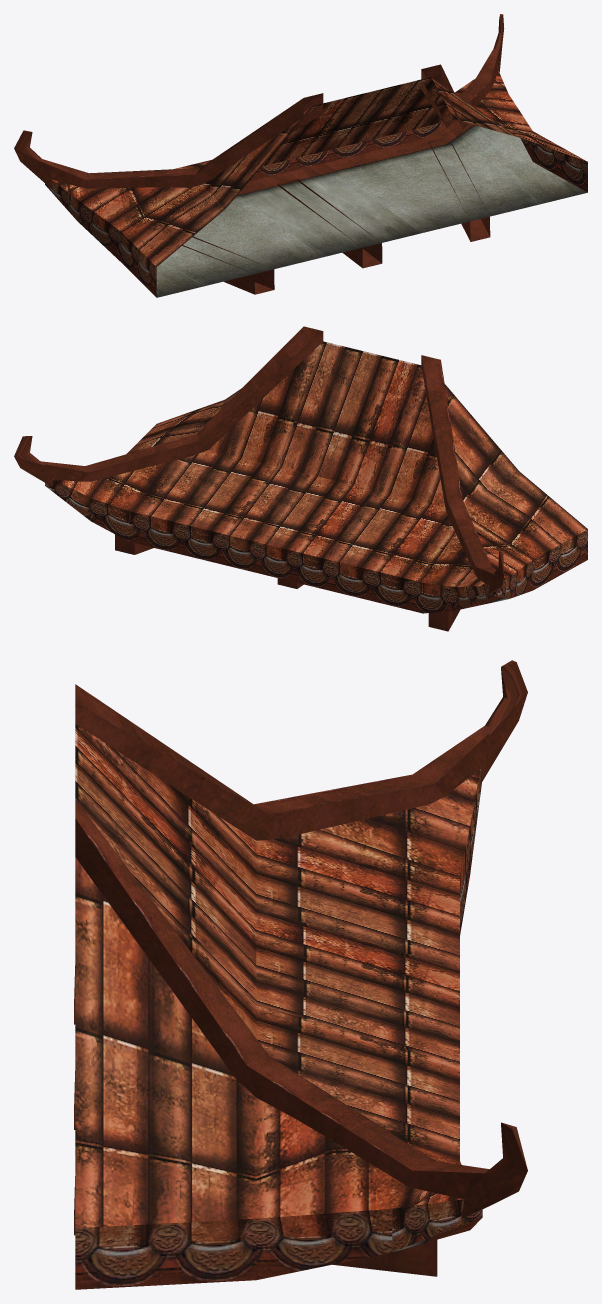
The model's file is roof_attachment_it_5m.fbx.
3 views of the same model, one above another, from view 1: azimuth 30°, elevation 25°; view 2: azimuth 150°, elevation 25°; view 3: azimuth 270°, elevation 25° (orthographic). The views are drawn at different scales.
Parts seen in each view (by area): view 1: mesh_0, mesh_2, mesh_4, mesh_3, mesh_1, mesh_5; view 2: mesh_3, mesh_5, mesh_1, mesh_2, mesh_0, mesh_4; view 3: mesh_1, mesh_0, mesh_5, mesh_3, mesh_2.
Part boxes in pixels (left/top/right/bottom): mesh_0: left=325, top=14, right=587, bottom=241; mesh_2: left=14, top=93, right=323, bottom=297; mesh_4: left=238, top=151, right=420, bottom=268; mesh_3: left=52, top=103, right=322, bottom=266; mesh_1: left=376, top=70, right=587, bottom=161; mesh_5: left=278, top=79, right=420, bottom=162; mesh_3: left=325, top=366, right=587, bottom=586; mesh_5: left=227, top=341, right=420, bottom=558; mesh_1: left=53, top=342, right=322, bottom=534; mesh_2: left=325, top=355, right=587, bottom=631; mesh_0: left=14, top=326, right=323, bottom=565; mesh_4: left=227, top=535, right=324, bottom=589; mesh_1: left=75, top=857, right=463, bottom=1228; mesh_0: left=74, top=799, right=527, bottom=1289; mesh_5: left=75, top=724, right=459, bottom=1065; mesh_3: left=76, top=724, right=480, bottom=969; mesh_2: left=74, top=660, right=527, bottom=1024.
Size of the model in its own units: 500 by 180 by 201.
2 materials, 2 textured.
